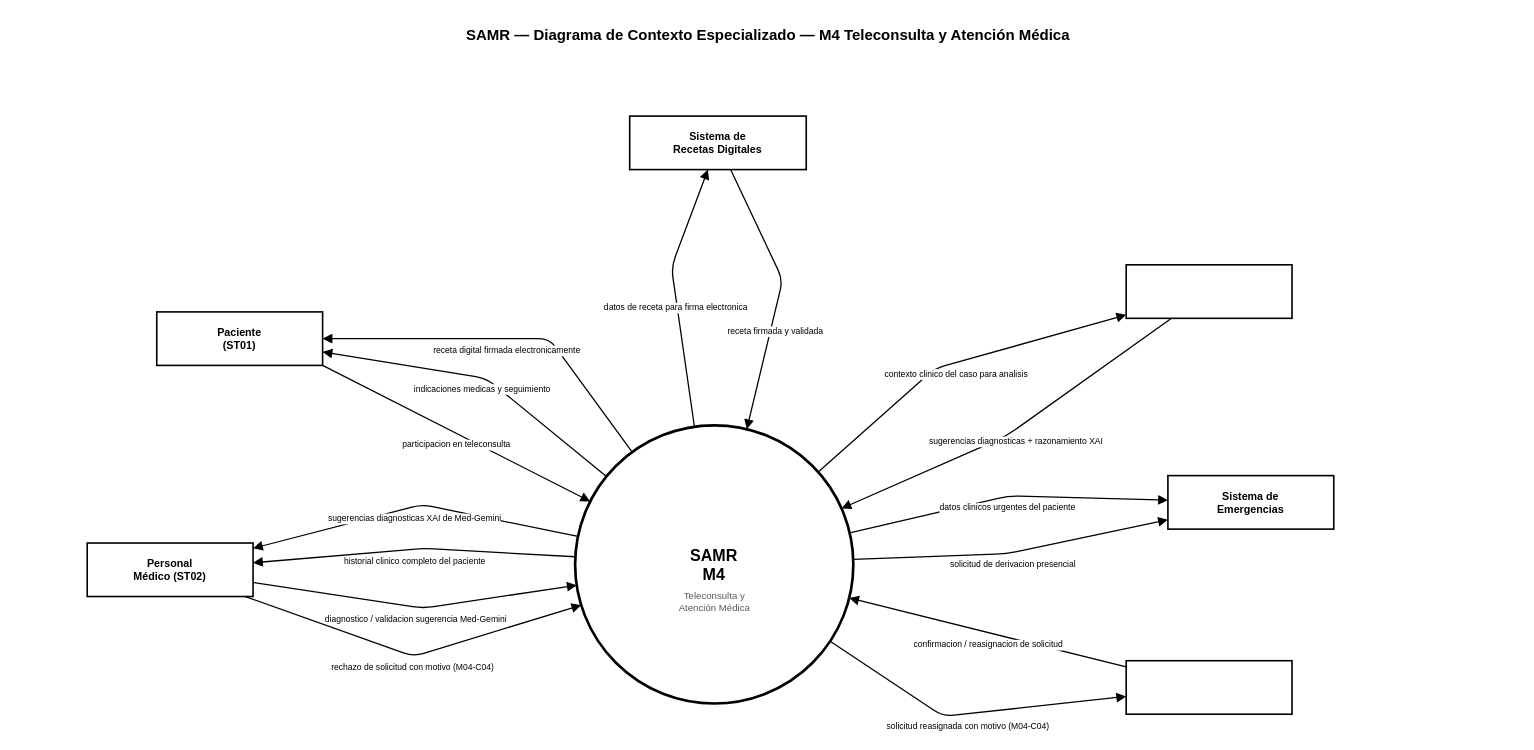
The diagram is 1534 pixels wide and 750 high, and some of its shapes have lost their labels. The centre of each missing label's shape, as x and y in pixels:
Centro de Asistencia (ST04): (x=1208, y=687)
Med-Gemini (Sistema): (x=1208, y=291)
